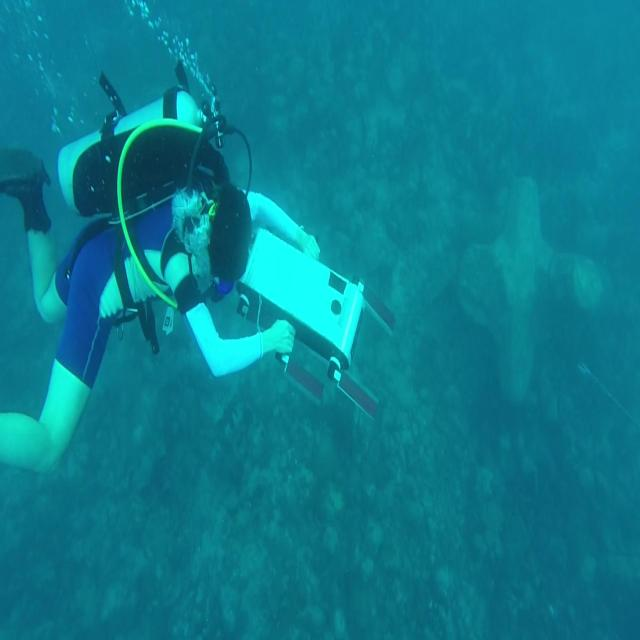human: (0, 62, 321, 475)
